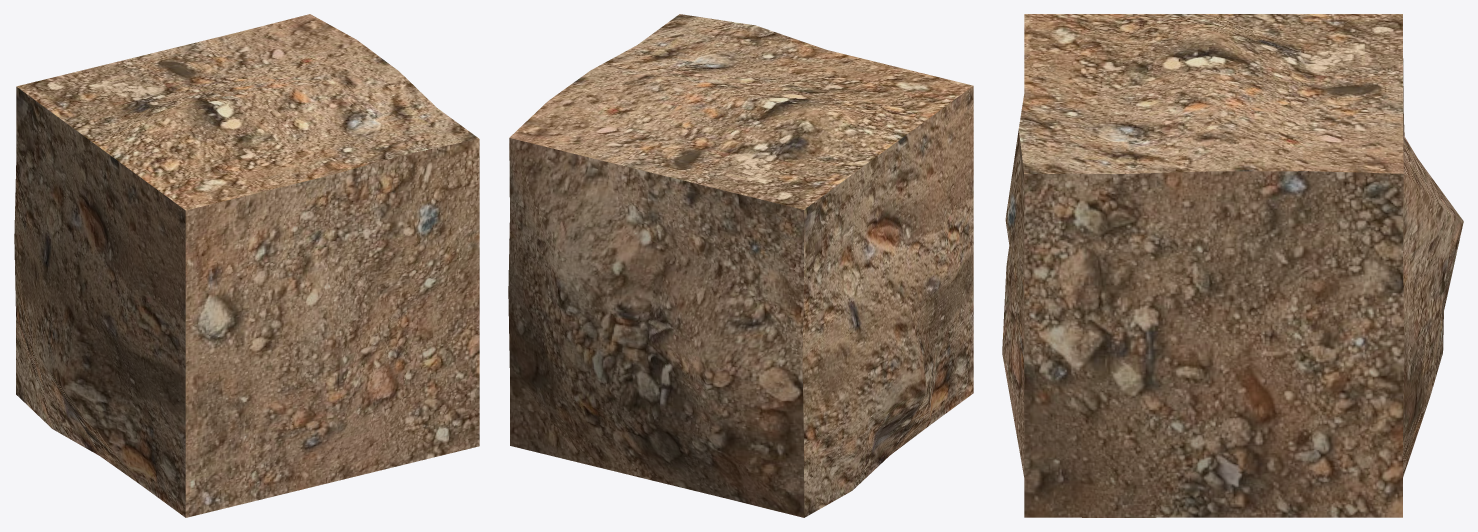
The model's file is dirt.glb.
The picture shows the model from 3 angles, left to right: view 1: azimuth 30°, elevation 25°; view 2: azimuth 150°, elevation 25°; view 3: azimuth 270°, elevation 25°; orthographic projection. The views are drawn at different scales.
Parts seen in each view (by area): view 1: Cube; view 2: Cube; view 3: Cube.
Boxes of the visible parts, x1,y1,x2,y2 form: Cube: (14, 14, 479, 517); Cube: (508, 14, 973, 517); Cube: (1002, 14, 1463, 517).
Bounding box in the file's own units: 2.39 × 2.33 × 2.44.
Materials: 1 (1 with a texture image).
